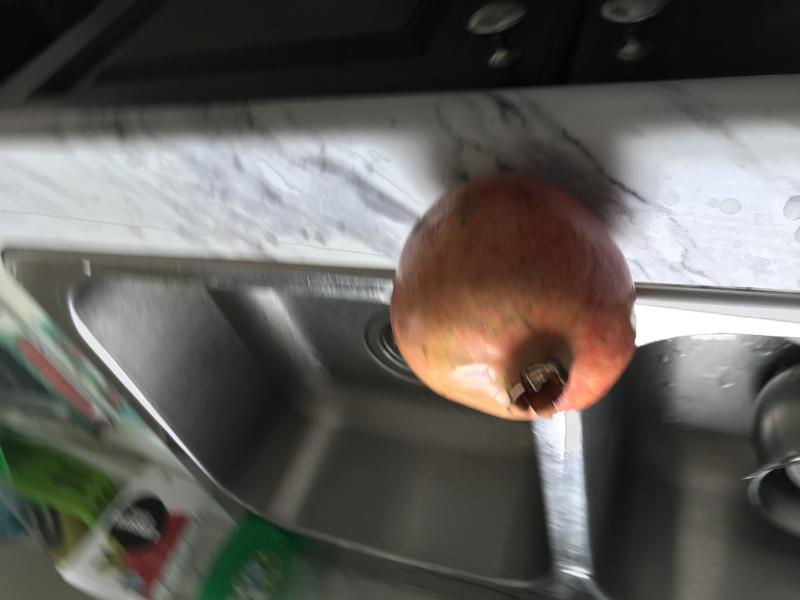pomegranate: (384, 159, 648, 430)
